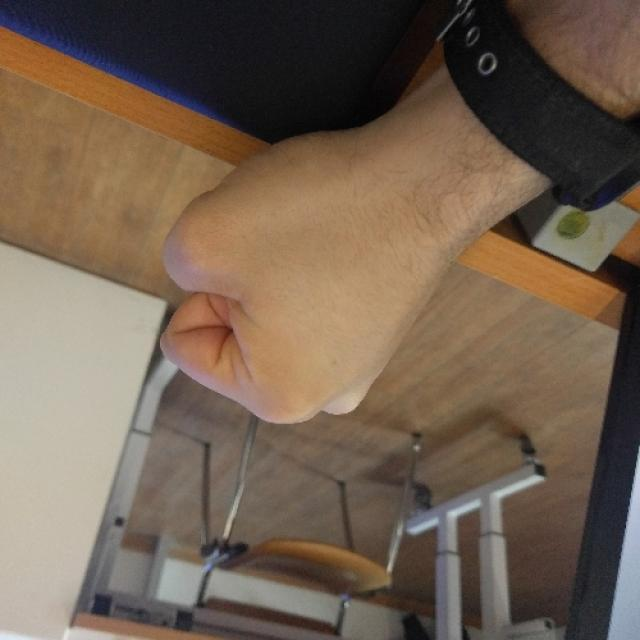rock: (158, 127, 426, 424)
